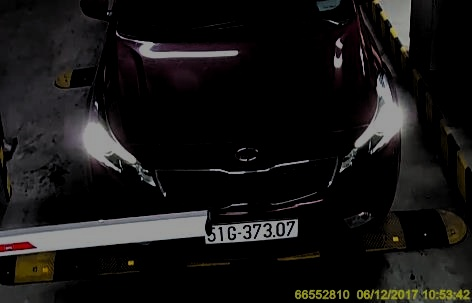plate: (201, 221, 304, 243)
